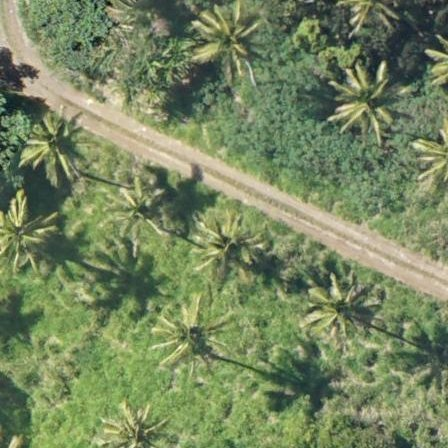palm_tree: (328, 60, 404, 138), (190, 202, 264, 282), (300, 273, 376, 349), (15, 106, 89, 180), (187, 1, 261, 74), (154, 299, 228, 370), (1, 192, 53, 271), (93, 396, 163, 448), (108, 183, 168, 242)
